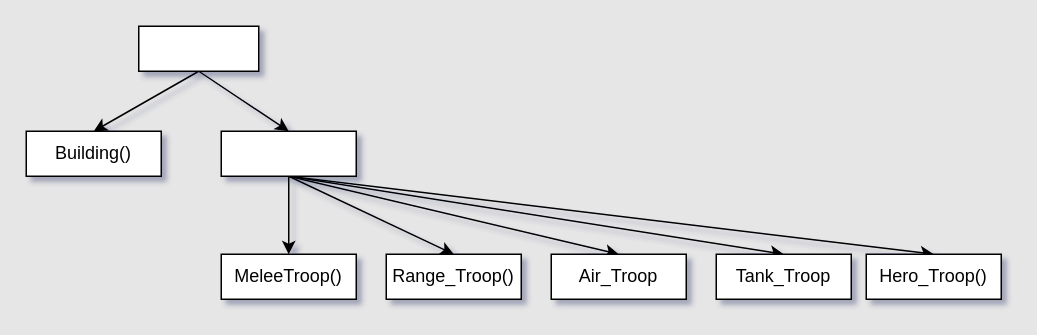
Image size: 1037x335. Some labels were removed from this diagram. The shapes that lost their labels are listed below. From the top down, each one's centre as x and y in pixels, then its label:
(x=198, y=48): BaseCass: GameObject
(x=288, y=153): Troop()
